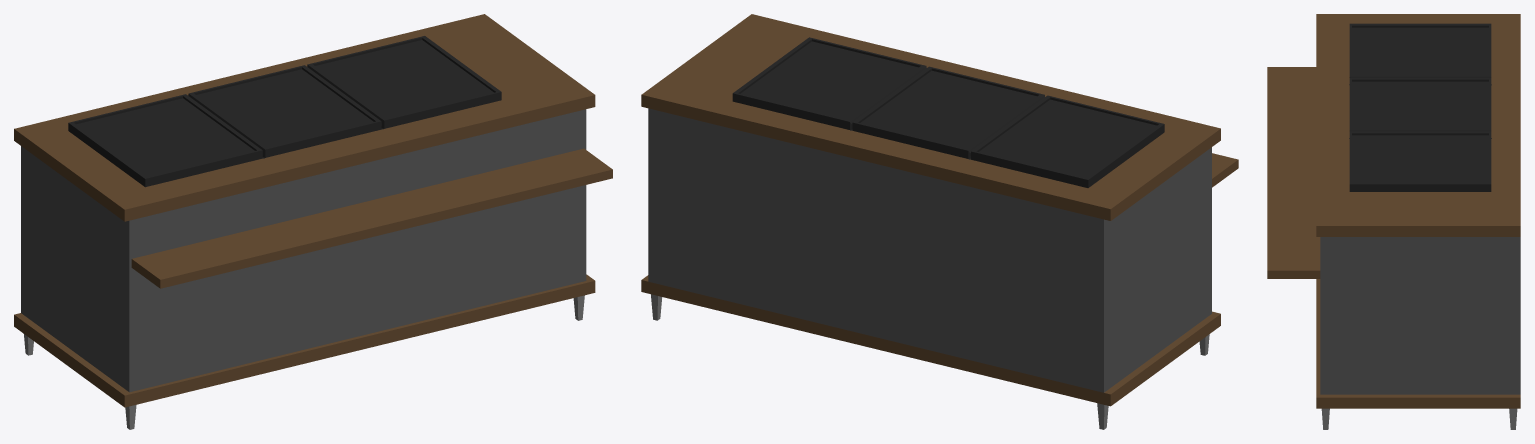
Rendered from Counter.fbx.
3 views of the same model, side by side, from view 1: azimuth 30°, elevation 25°; view 2: azimuth 150°, elevation 25°; view 3: azimuth 270°, elevation 25° (orthographic). The views are drawn at different scales.
Parts seen in each view (by area): view 1: Box007; view 2: Box007; view 3: Box007.
Part boxes in pixels (x1,y1,x2,y2): Box007: (14,14,612,429); Box007: (641,14,1238,429); Box007: (1267,14,1520,429).
Size of the model in its own units: 80.45 by 38.15 by 40.63.
